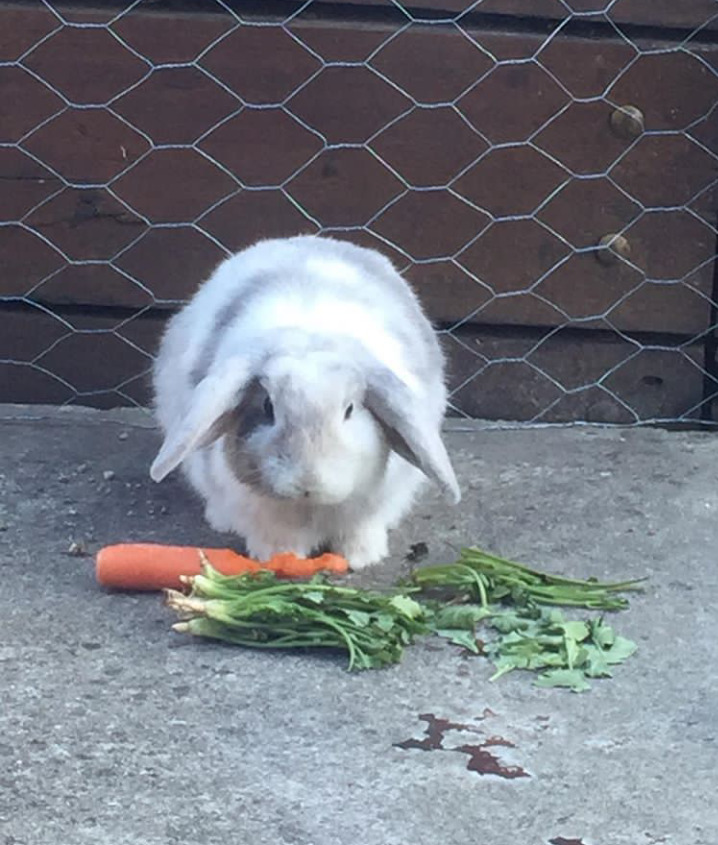bunny: (138, 218, 478, 578)
